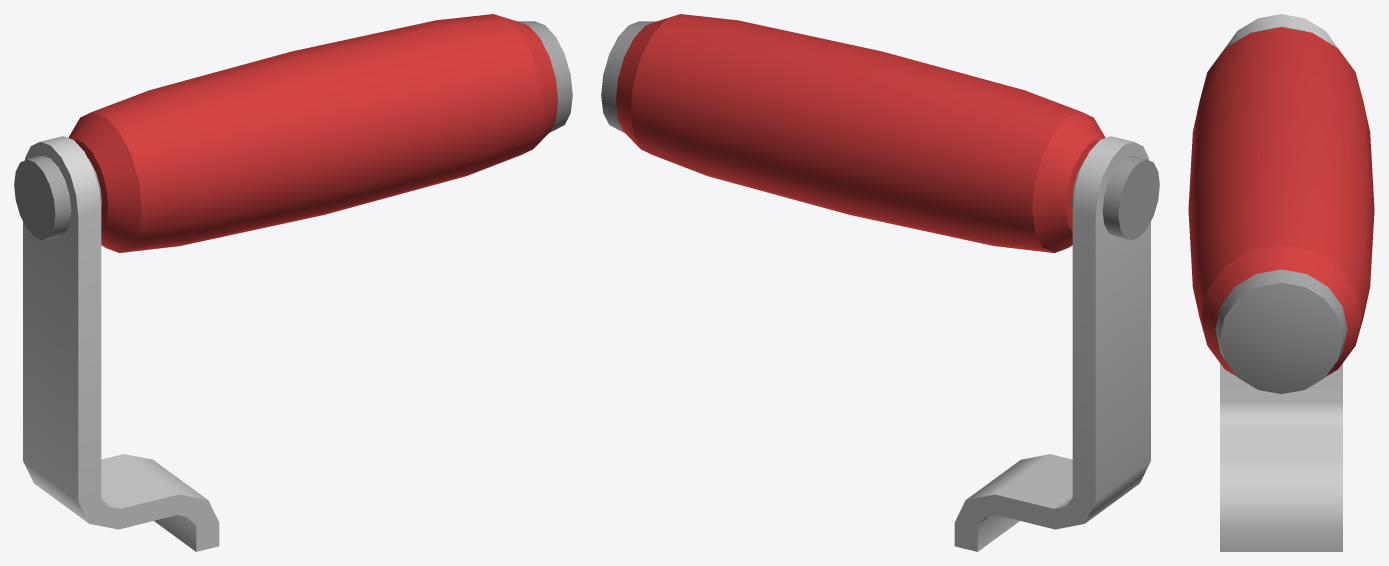
The model's file is LS_Arm_005m.fbx.
3 renders of one model, left to right at view 1: azimuth 30°, elevation 25°; view 2: azimuth 150°, elevation 25°; view 3: azimuth 270°, elevation 25°, orthographic. The views are drawn at different scales.
Visible parts, largest first — view 1: LS_Arm_005m; view 2: LS_Arm_005m; view 3: LS_Arm_005m.
Boxes of the visible parts, x1,y1,x2,y2 form: LS_Arm_005m: (14,14,572,551); LS_Arm_005m: (601,14,1159,551); LS_Arm_005m: (1188,14,1374,551).
Bounding box in the file's own units: 196 × 157 × 54.23.
